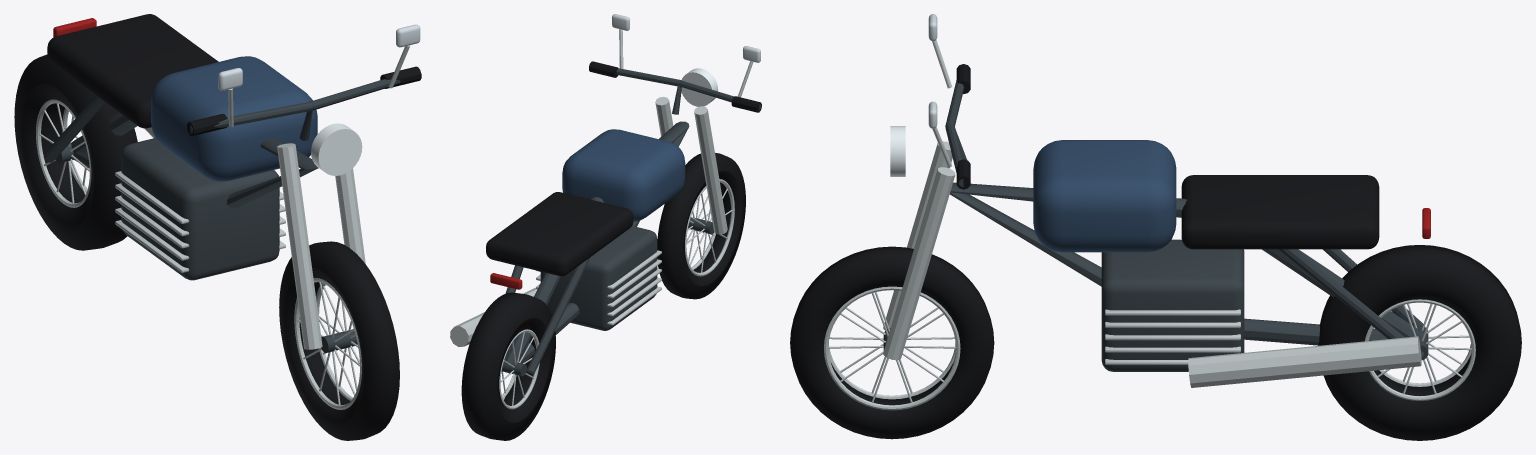
The model's file is moto_carretera_base.glb.
3 views of the same model, side by side, from view 1: azimuth 30°, elevation 25°; view 2: azimuth 150°, elevation 25°; view 3: azimuth 270°, elevation 25° (orthographic). The views are drawn at different scales.
Parts seen in each view (by area): view 1: moto_carretera_base; view 2: moto_carretera_base; view 3: moto_carretera_base.
Boxes of the visible parts, bbox=[...] form: moto_carretera_base: bbox=[14, 14, 421, 440]; moto_carretera_base: bbox=[450, 14, 761, 440]; moto_carretera_base: bbox=[790, 14, 1521, 440].
Size of the model in its own units: 0.7827 by 1.21 by 2.15.
